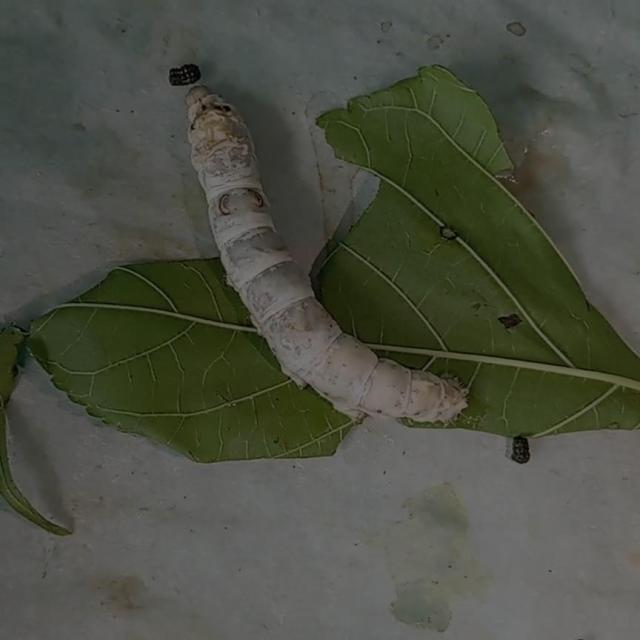Grasserie: (138, 44, 510, 446)
